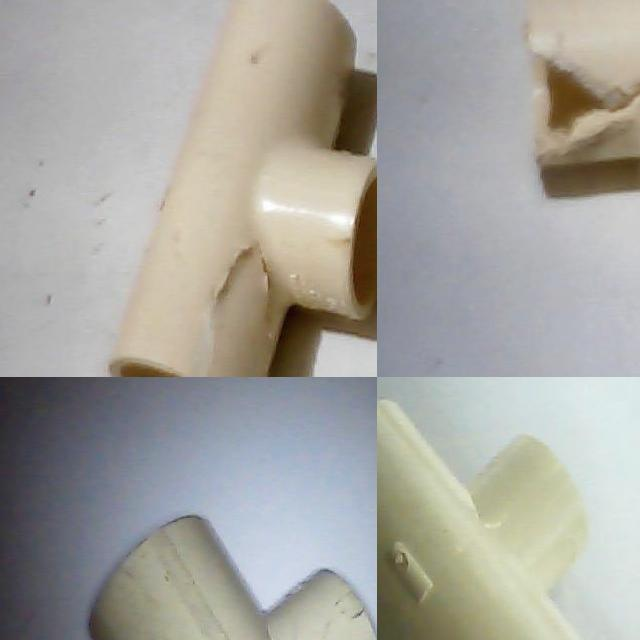Defective: (501, 19, 640, 167), (213, 212, 273, 377)
T Joint: (106, 0, 377, 377), (377, 399, 590, 640), (87, 516, 377, 640)
